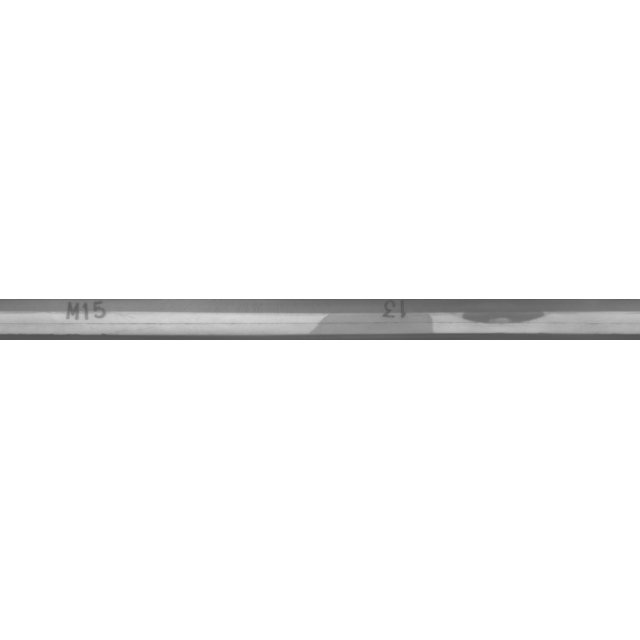mohao: (0, 270, 189, 370)
xuehao: (294, 270, 494, 370)
